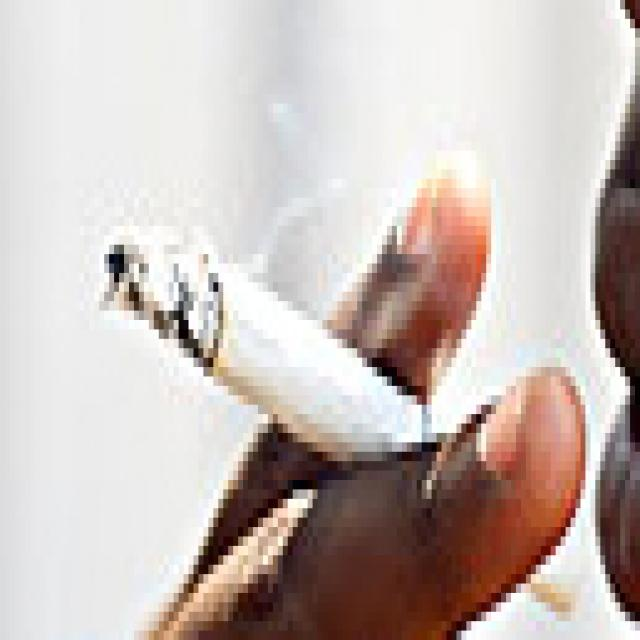smoking: (107, 226, 577, 620)
